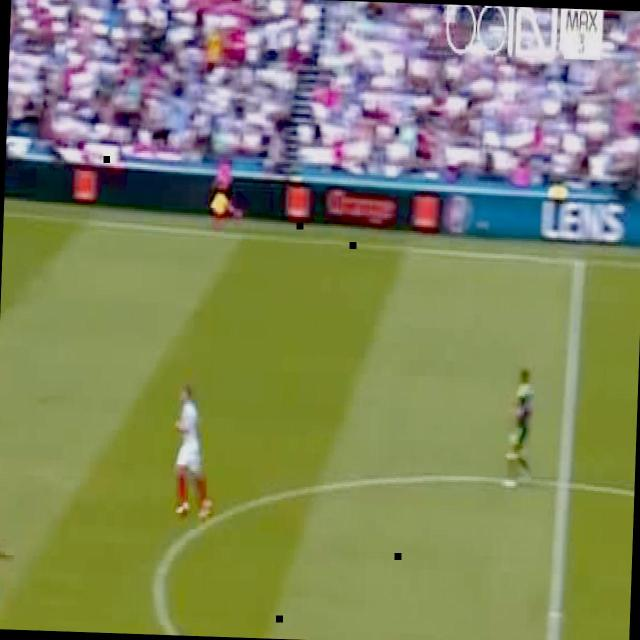player-white: (171, 387, 217, 522), (504, 368, 535, 487), (0, 513, 14, 628)
